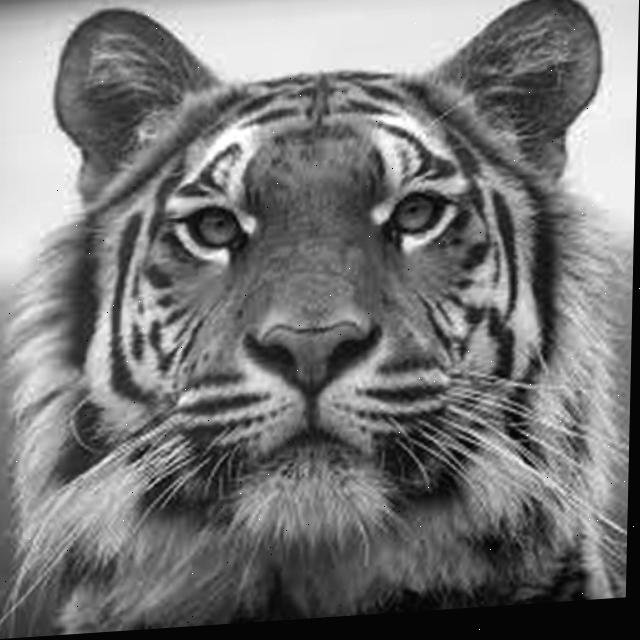Tiger: (0, 0, 639, 638)
